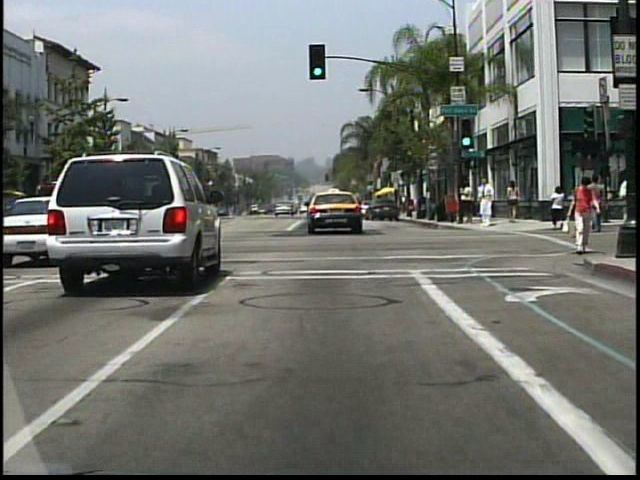person: (580, 173, 624, 242), (564, 175, 600, 254), (478, 178, 496, 227), (550, 184, 567, 230), (505, 180, 521, 225), (461, 177, 473, 224), (594, 175, 603, 236), (400, 192, 408, 214)
